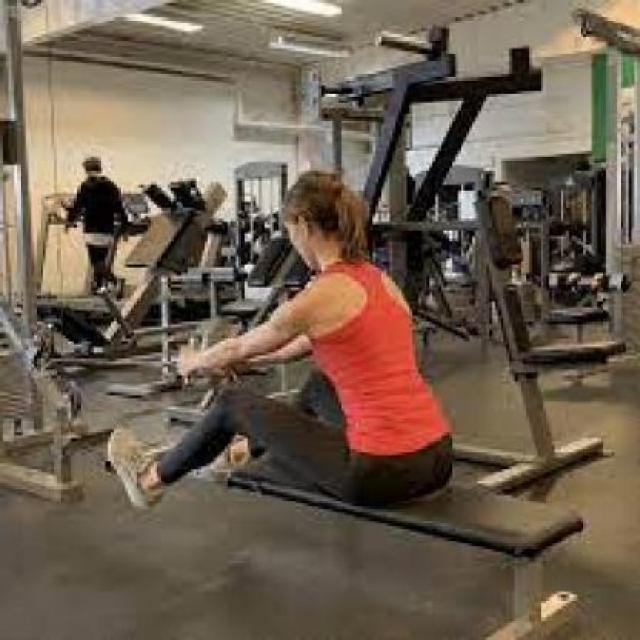Seated Cable Rows: (0, 98, 597, 640)
